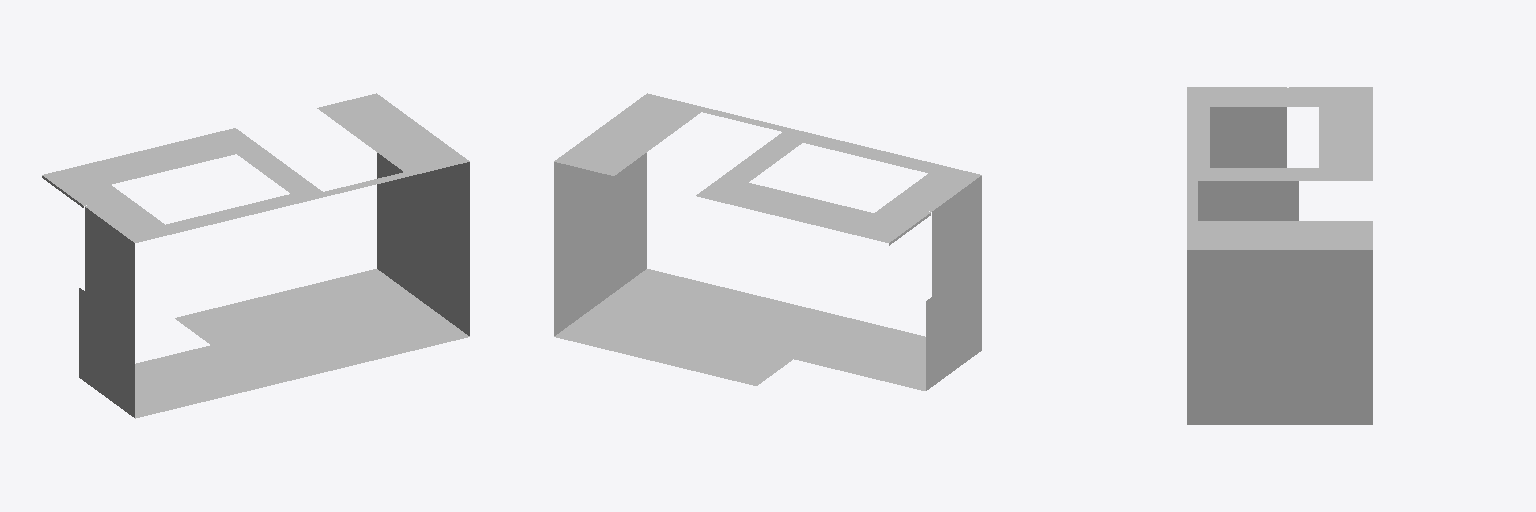
File: Wall2.obj
3 views of the same model, side by side, from view 1: azimuth 30°, elevation 25°; view 2: azimuth 150°, elevation 25°; view 3: azimuth 270°, elevation 25° (orthographic).
Parts seen in each view (by area): view 1: Walls2; view 2: Walls2; view 3: Walls2.
Boxes of the visible parts, box(x1,y1,x2,y2) form: Walls2: box(42, 93, 469, 418); Walls2: box(554, 93, 981, 390); Walls2: box(1187, 87, 1372, 424).
Bounding box in the file's own units: 4.88 × 2.44 × 2.35.